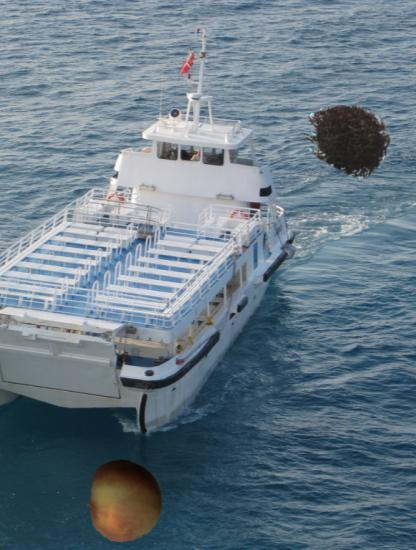Apple: (84, 460, 167, 543)
Rambutan: (305, 92, 392, 179)
